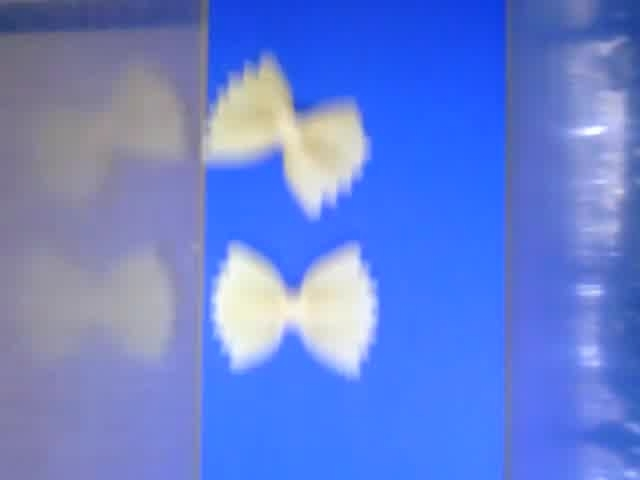farfalle: (200, 55, 370, 217), (211, 237, 378, 377)
